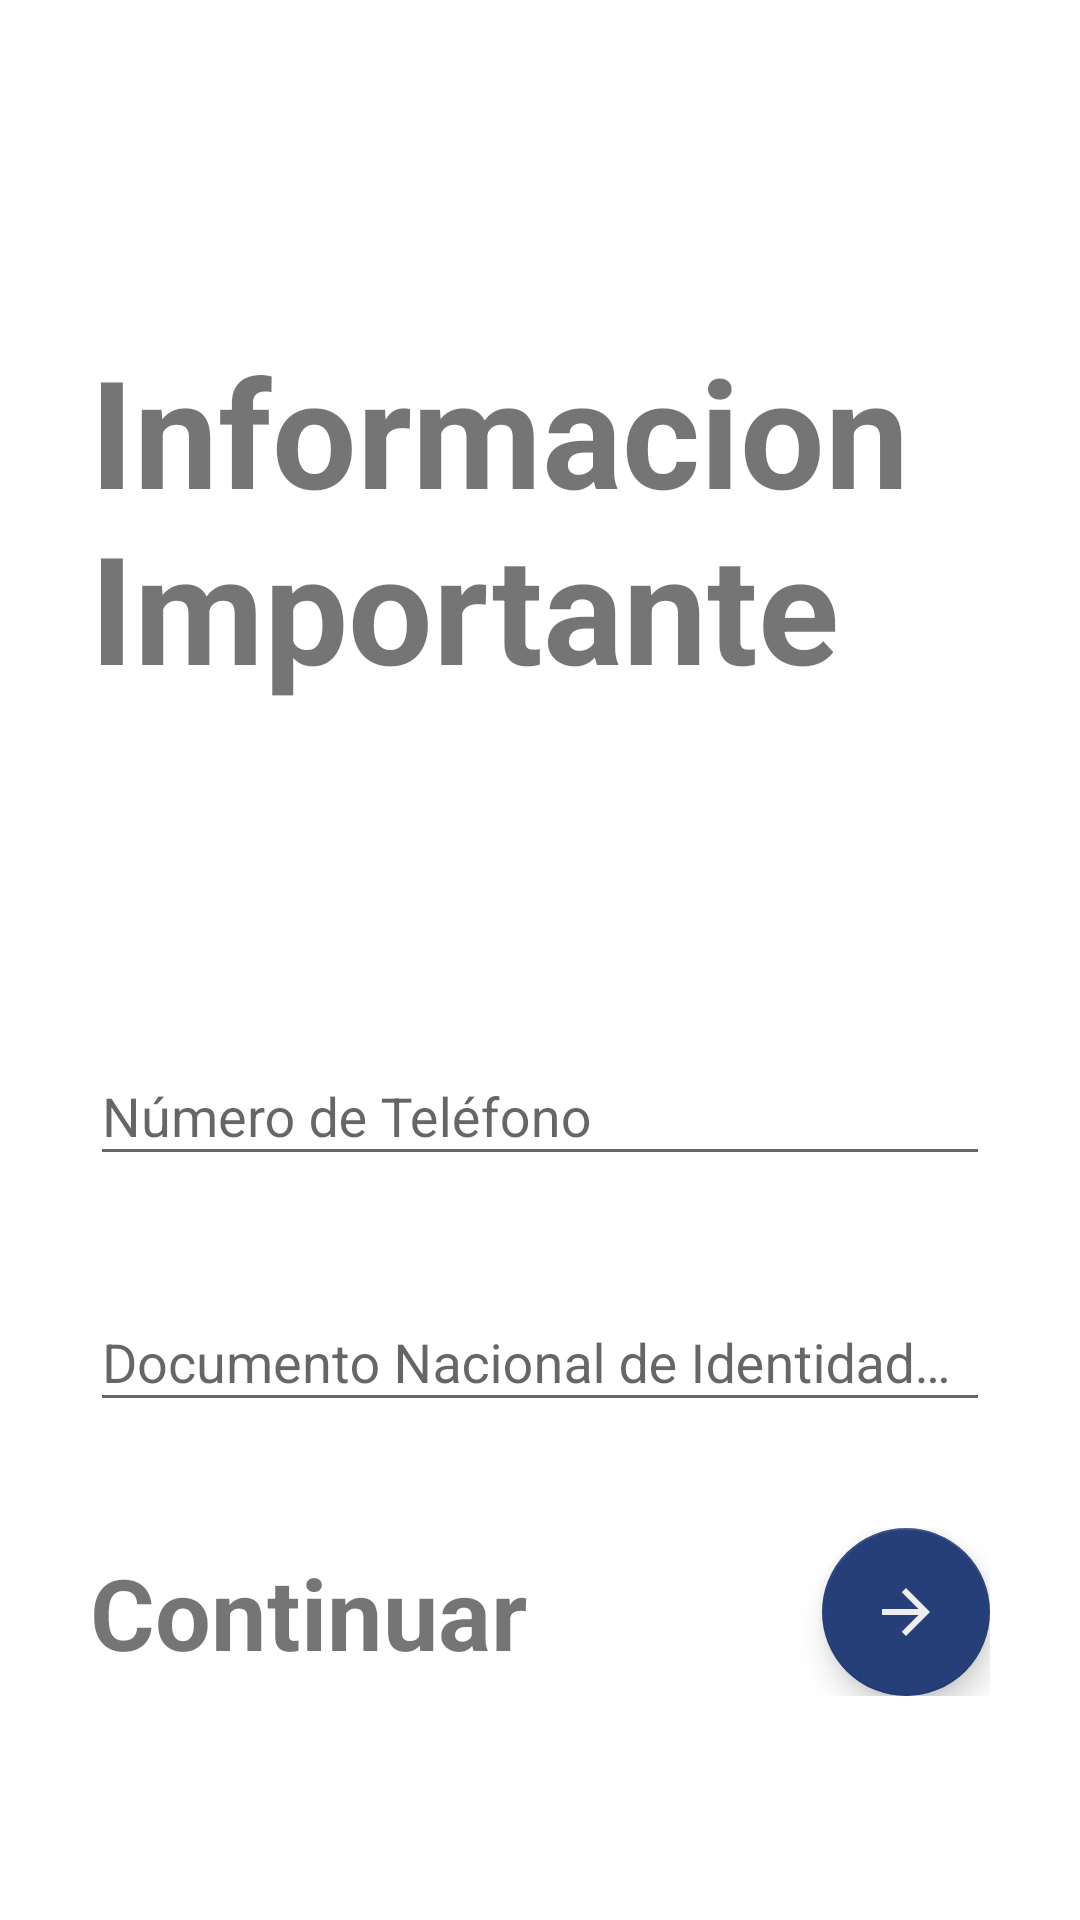

Icons on this 1080w x 1920h Android screen, each with the point to tap as point (x, y):
arrow right: point (906, 1612)
